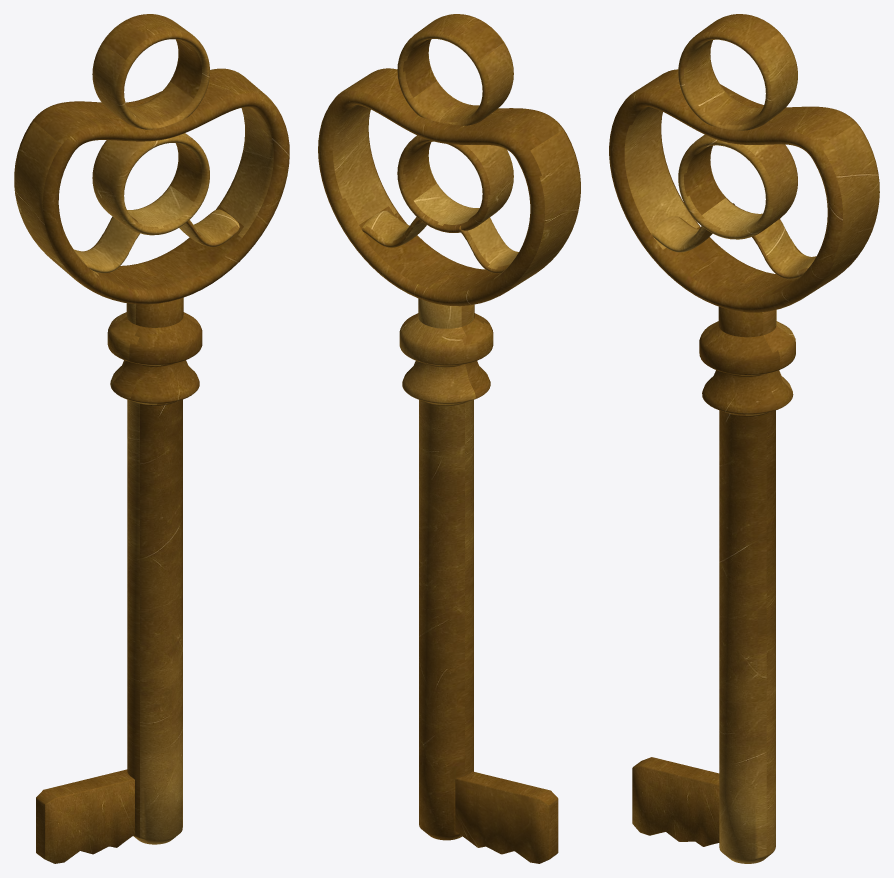
3 views of the same model, side by side, from view 1: azimuth 30°, elevation 25°; view 2: azimuth 150°, elevation 25°; view 3: azimuth 330°, elevation 25° (orthographic). The views are drawn at different scales.
Parts seen in each view (by area): view 1: Key.001; view 2: Key.001; view 3: Key.001.
Boxes of the visible parts, x1,y1,x2,y2 form: Key.001: [14, 14, 289, 863]; Key.001: [318, 14, 580, 863]; Key.001: [609, 14, 879, 863].
Size of the model in its own units: 1.21 by 3.89 by 0.4106.
1 material, 1 textured.
